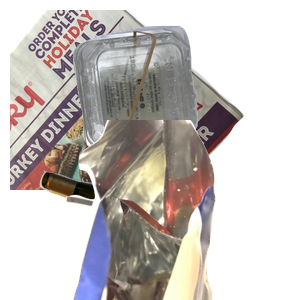glass: (37, 168, 242, 300)
paper: (10, 10, 247, 190)
plastic: (71, 23, 300, 169)
trash: (63, 120, 300, 300)
